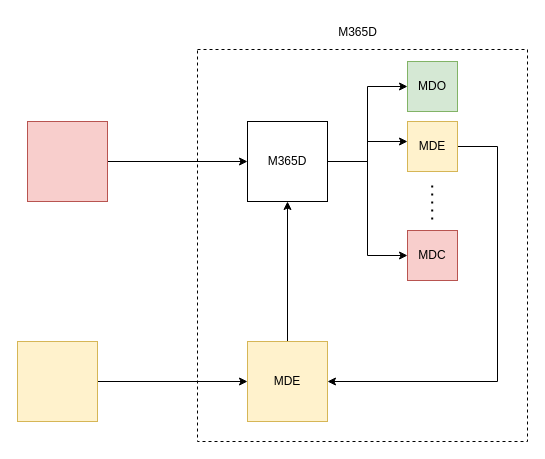
The diagram is 545 pixels wide and 459 high, and some of its shapes have lost their labels. The centre of each missing label's shape, as x and y in pixels:
Auto provisioning API: point 67,161
Defender for Servers license API: point 57,381
